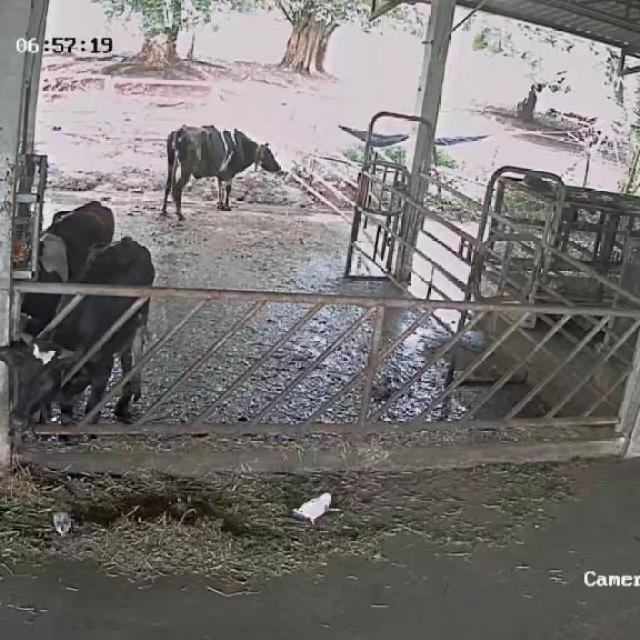feeding: (0, 238, 161, 442)
standing: (8, 196, 118, 338), (160, 123, 283, 214)
